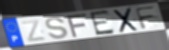E: (88, 9, 117, 37)
F: (66, 12, 90, 40), (134, 5, 158, 31)
S: (44, 16, 70, 40)
X: (112, 7, 139, 34)
Z: (19, 18, 48, 43)
